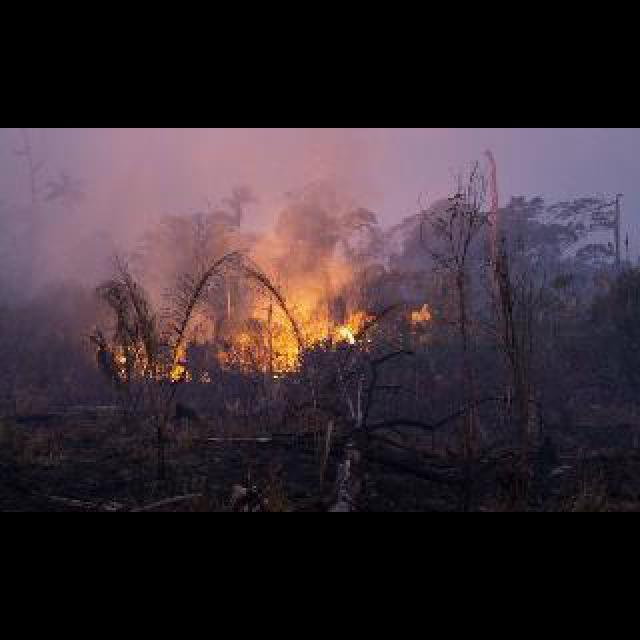Fire: (230, 304, 366, 368), (170, 340, 192, 376), (416, 302, 430, 320), (114, 348, 128, 362)
